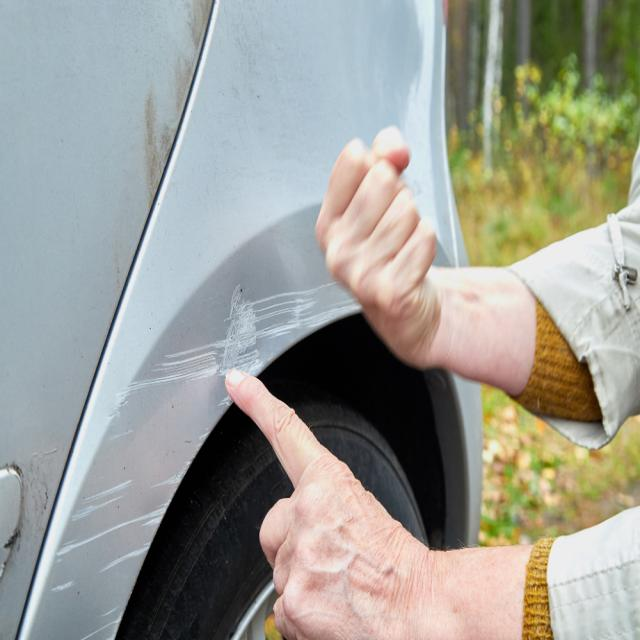scratch: (50, 279, 363, 640)
